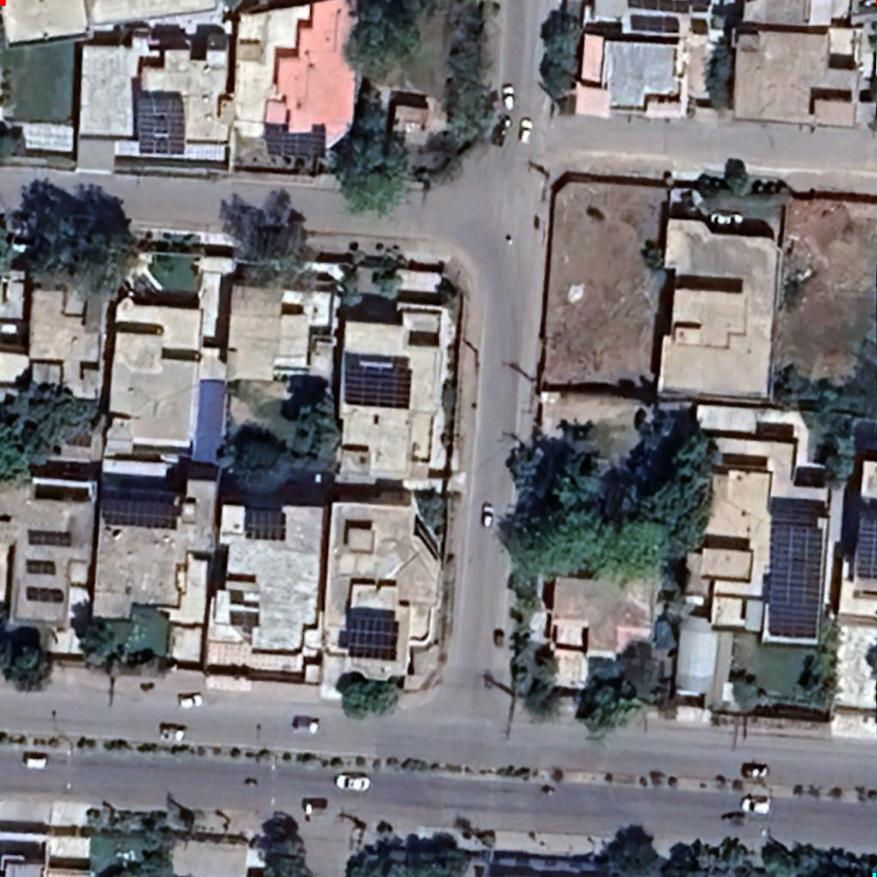Solarpanel: (767, 509, 827, 642), (342, 357, 415, 412), (132, 91, 188, 159), (335, 618, 402, 664), (99, 494, 181, 531), (262, 122, 329, 160), (851, 507, 876, 581), (242, 506, 289, 544), (625, 13, 683, 35), (624, 0, 712, 14), (26, 525, 76, 549), (22, 584, 67, 604), (23, 558, 59, 577), (688, 18, 711, 36)
